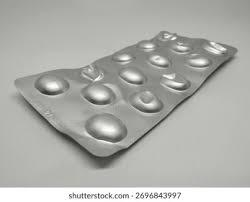pill_Strip: (15, 31, 236, 156)
